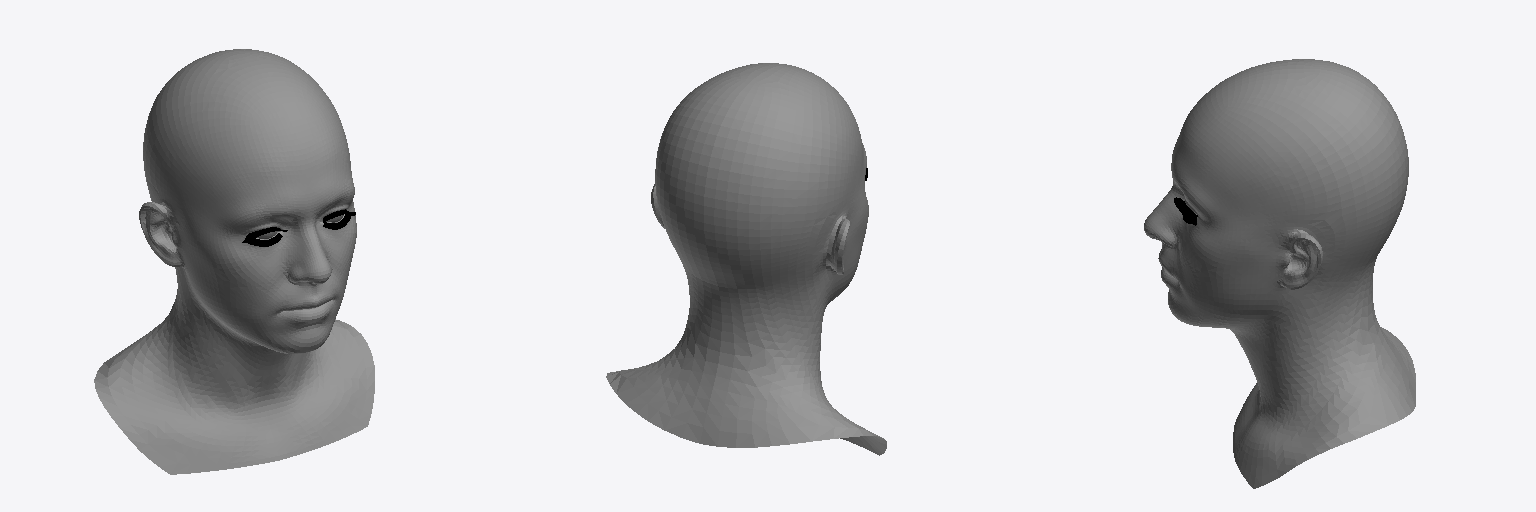
File: identity032.obj
3 renders of one model, left to right at view 1: azimuth 30°, elevation 25°; view 2: azimuth 150°, elevation 25°; view 3: azimuth 270°, elevation 25°, orthographic.
Size of the model in its own units: 24.88 by 33.88 by 22.34.